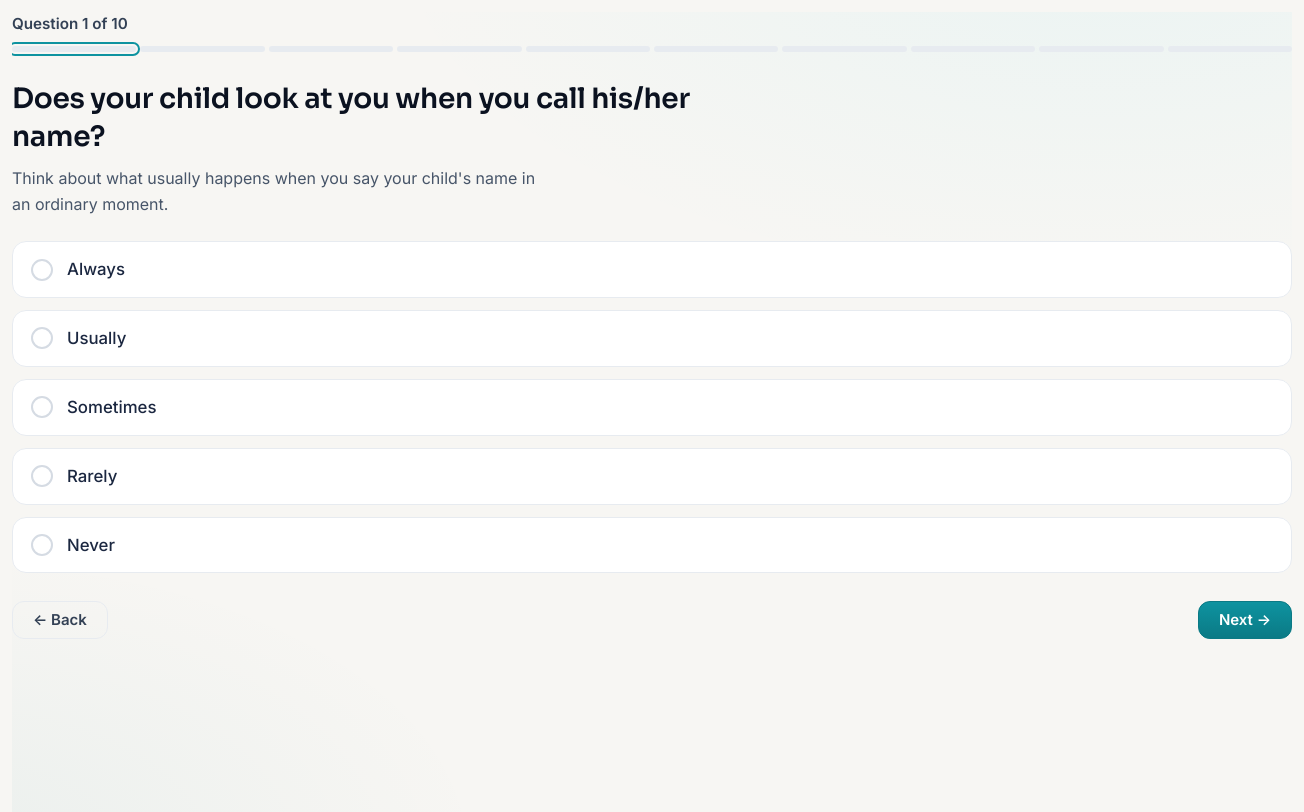
Test: question flow › does not advance without an answer, and says why
What coordinates should you click on to do the following:
click the button "Next →"
I would click on:
 (1245, 620)
Its box is [1198,602,1292,640].
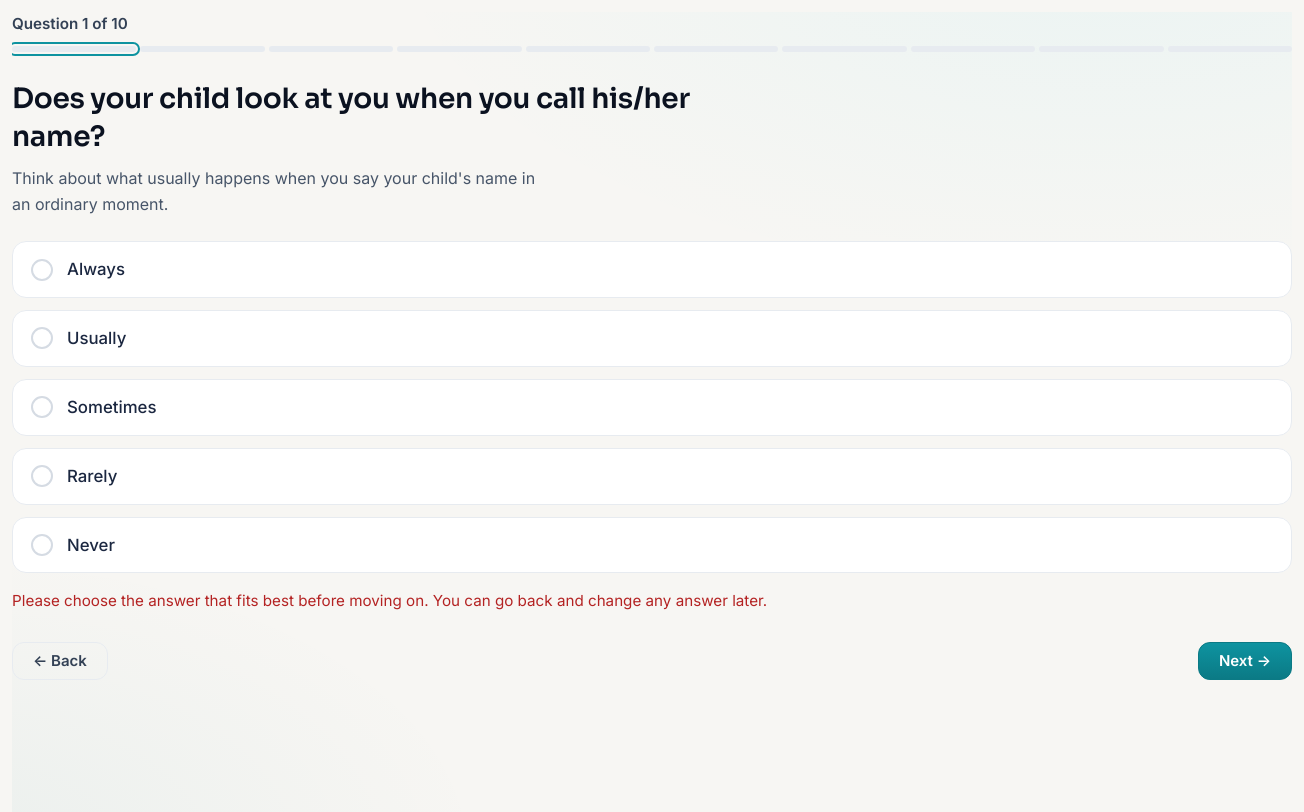
Expected: the text "Question 1 of 10" is shown, [12,14,128,33]
Expected: the message shows "choose the answer that fits best", [12,592,767,610]
